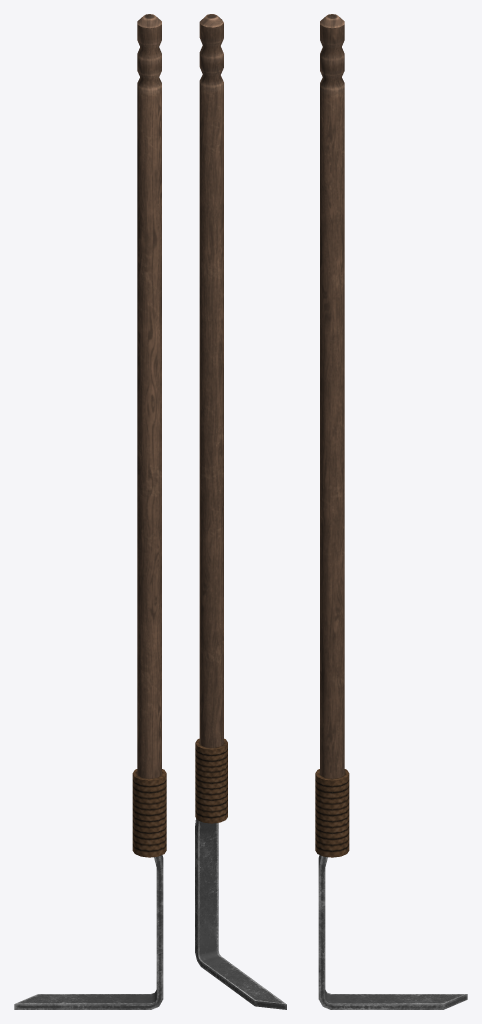
The model's file is LOD0_fireIron.fbx.
3 renders of one model, left to right at view 1: azimuth 90°, elevation 25°; view 2: azimuth 210°, elevation 25°; view 3: azimuth 270°, elevation 25°, orthographic. The views are drawn at different scales.
Visible parts, largest first — view 1: LOD0_fireIron; view 2: LOD0_fireIron; view 3: LOD0_fireIron.
Part boxes in pixels (x1=…): LOD0_fireIron: x1=14, y1=14, x2=166, y2=1009; LOD0_fireIron: x1=195, y1=14, x2=286, y2=1009; LOD0_fireIron: x1=315, y1=14, x2=467, y2=1009.
Size of the model in its own units: 0.0473 by 1.51 by 0.2108.
